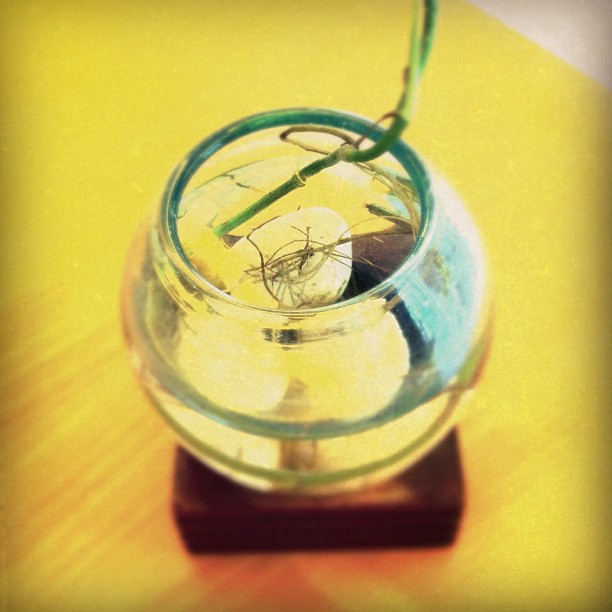glass of water: (129, 114, 494, 489)
